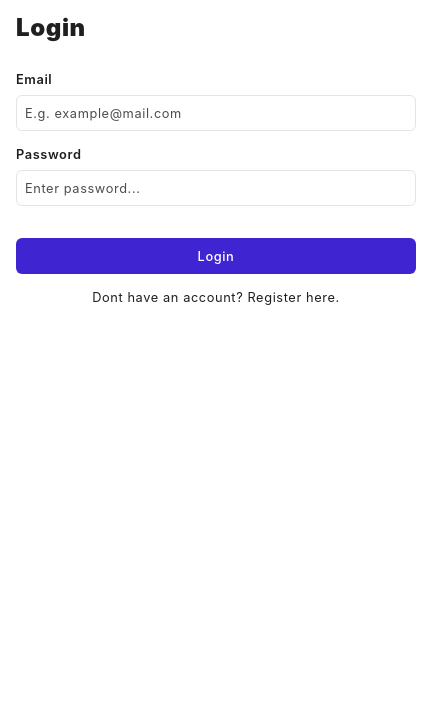
Test: Authentication component: UI & navigation › navigates to the "/register" route when the register link is clicked
Click the link "Dont have an account? Register here." at (216, 298), box [92,290,340,305]
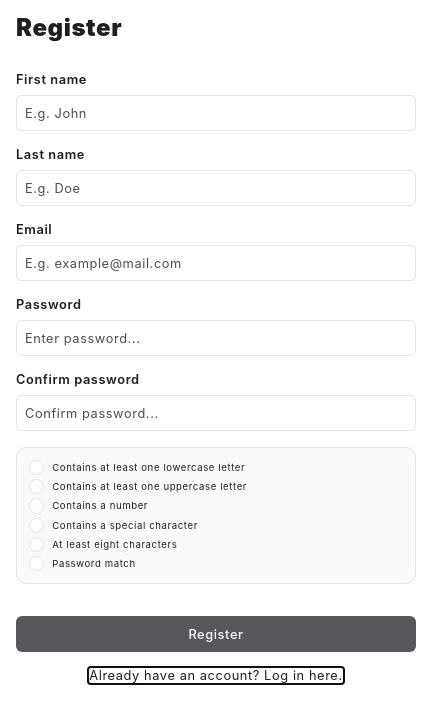
Now the heading reads "Register", box [16,13,122,42]
